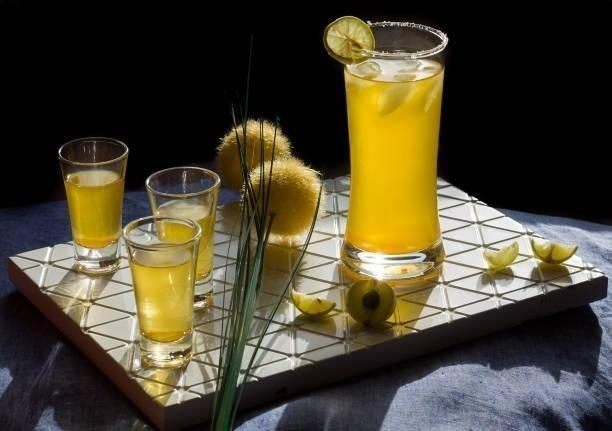glass-normal: (340, 19, 450, 282), (122, 212, 202, 371), (145, 165, 221, 303), (57, 135, 130, 273)
